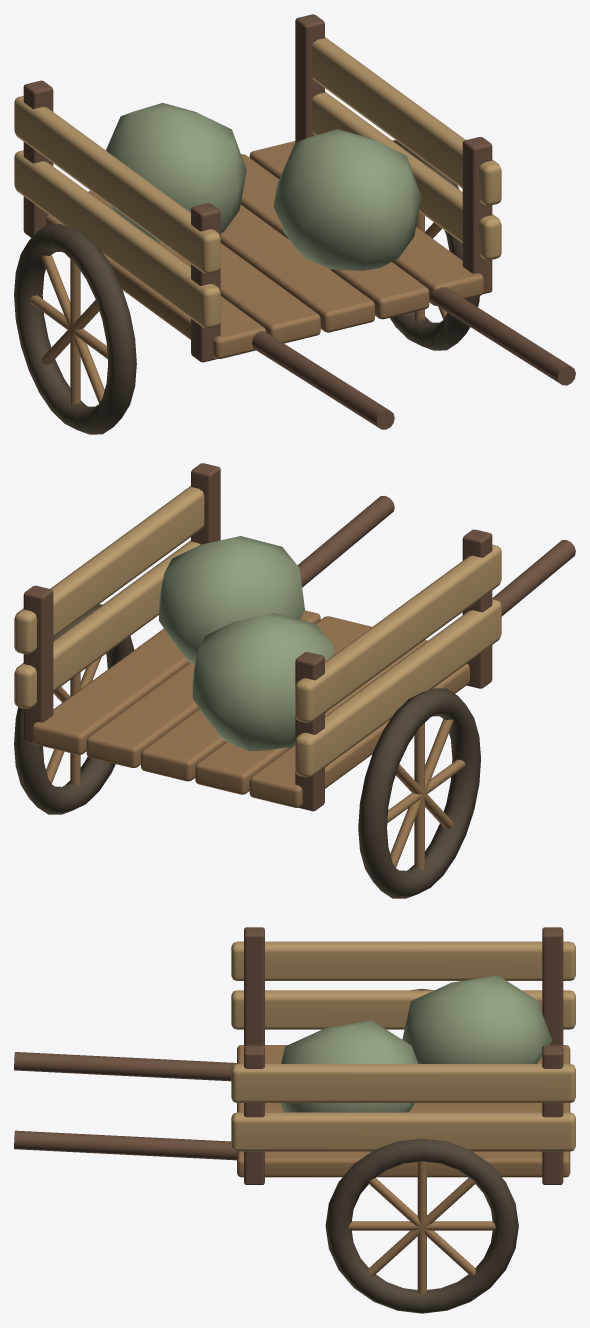
Rendered from cart.glb.
The picture shows the model from 3 angles, top to bottom: view 1: azimuth 30°, elevation 25°; view 2: azimuth 150°, elevation 25°; view 3: azimuth 270°, elevation 25°; orthographic projection. The views are drawn at different scales.
Visible parts, largest first — view 1: cart_wood_light, cart_wood, cart_canvas, cart_timber, cart_wood_dark; view 2: cart_wood_light, cart_wood, cart_canvas, cart_wood_dark, cart_timber; view 3: cart_wood_light, cart_timber, cart_canvas, cart_wood, cart_wood_dark.
Boxes of the visible parts, x1,y1,x2,y2 form: cart_wood_light: (14,37,501,328); cart_wood: (29,141,483,405); cart_canvas: (106,103,421,270); cart_timber: (23,14,575,429); cart_wood_dark: (14,140,479,434); cart_wood_light: (14,486,501,777); cart_wood: (32,610,469,869); cart_canvas: (159,536,334,751); cart_wood_dark: (14,604,480,898); cart_timber: (23,463,575,811); cart_wood_light: (231,941,575,1151); cart_timber: (14,927,563,1184); cart_canvas: (281,975,552,1112); cart_wood: (237,1045,570,1294); cart_wood_dark: (325,988,518,1313).
Bounding box in the file's own units: 1.62 × 1.18 × 2.41.
